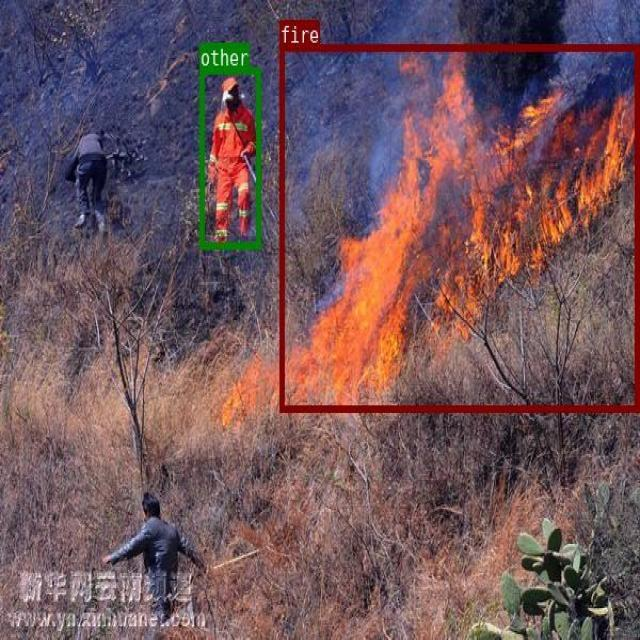fire: (279, 43, 638, 410)
